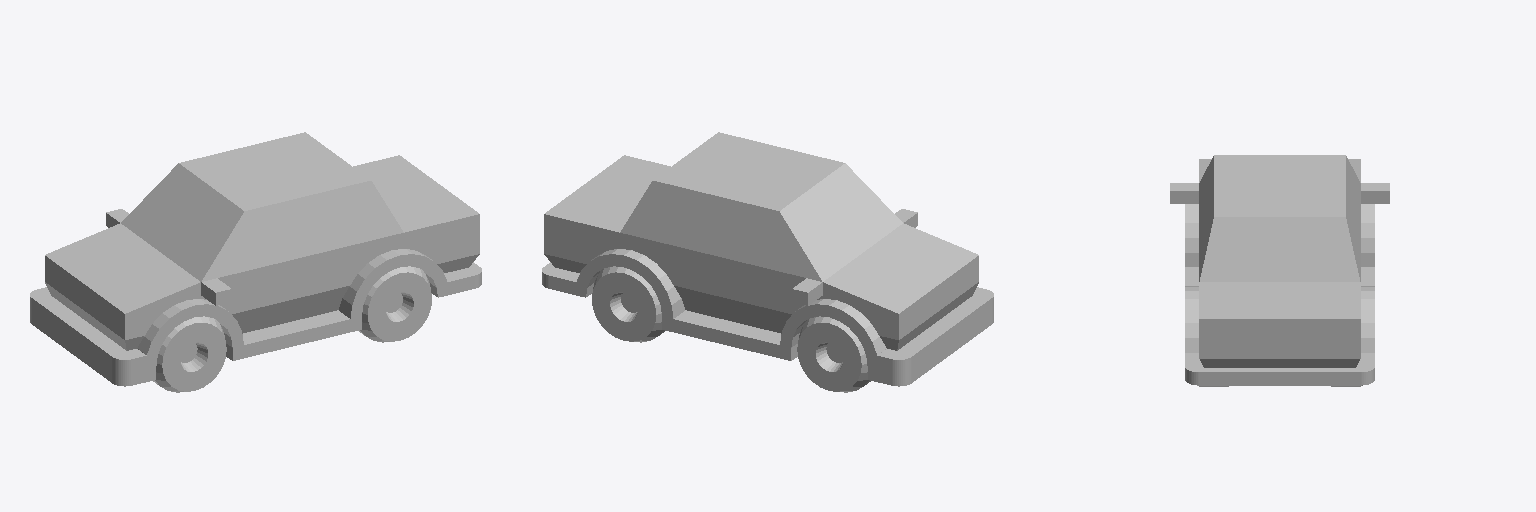
Rendered from police.obj.
3 renders of one model, left to right at view 1: azimuth 30°, elevation 25°; view 2: azimuth 150°, elevation 25°; view 3: azimuth 270°, elevation 25°, orthographic.
Parts seen in each view (by area): view 1: body, wheel_frontLeft, wheel_backLeft; view 2: body, wheel_frontRight, wheel_backRight; view 3: body.
Boxes of the visible parts, x1,y1,x2,y2 form: body: [30, 132, 481, 386]; wheel_frontLeft: [153, 316, 226, 392]; wheel_backLeft: [359, 266, 431, 342]; body: [542, 132, 993, 386]; wheel_frontRight: [797, 316, 870, 392]; wheel_backRight: [592, 266, 664, 342]; body: [1170, 155, 1389, 385].
Size of the model in its own units: 2.17 by 0.9 by 1.12.